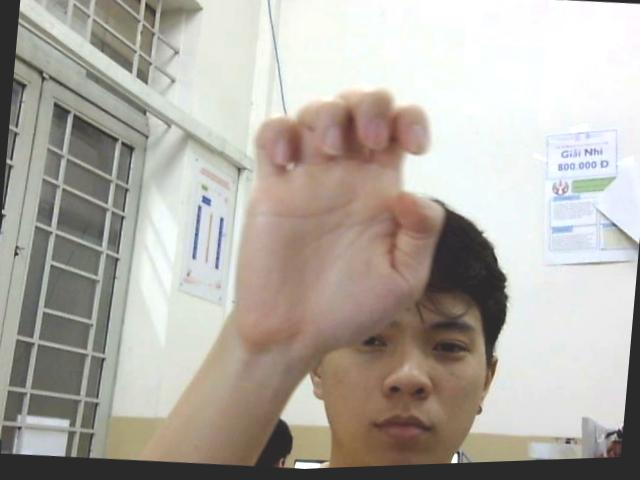E: (228, 72, 452, 356)
